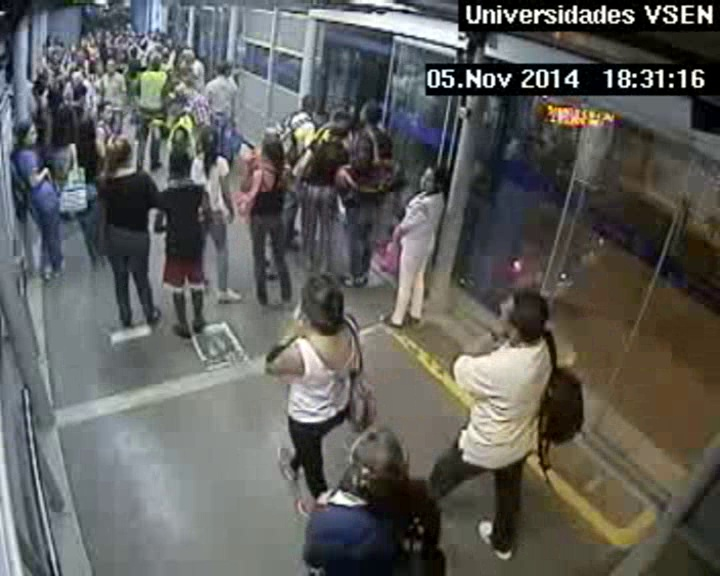person: (348, 424, 415, 502), (496, 286, 556, 347), (294, 275, 346, 332), (107, 133, 139, 165), (418, 162, 449, 194), (357, 102, 383, 128), (15, 121, 38, 146), (169, 152, 191, 175), (50, 121, 70, 144), (263, 135, 283, 158), (76, 120, 96, 142), (97, 102, 116, 122), (202, 132, 222, 150), (187, 105, 205, 125), (181, 81, 200, 99), (335, 110, 352, 129), (214, 60, 231, 78), (178, 68, 195, 86), (72, 86, 88, 105), (303, 93, 319, 112), (330, 128, 347, 145), (105, 56, 119, 73), (71, 68, 85, 84), (38, 68, 52, 84), (181, 50, 195, 64), (74, 49, 86, 63), (129, 61, 141, 74), (161, 47, 174, 59), (94, 61, 106, 73), (151, 56, 163, 68), (39, 44, 49, 55), (81, 59, 91, 70), (51, 51, 60, 62), (67, 41, 76, 52), (130, 47, 139, 57), (106, 48, 116, 57), (125, 21, 134, 29), (53, 37, 62, 45), (140, 40, 148, 48), (47, 35, 54, 44), (120, 52, 127, 61), (86, 30, 93, 38), (90, 37, 97, 45), (96, 31, 103, 38), (166, 38, 173, 45), (121, 33, 128, 40), (104, 30, 110, 37), (148, 31, 154, 38), (120, 26, 127, 32), (152, 36, 158, 42), (139, 33, 145, 39)
